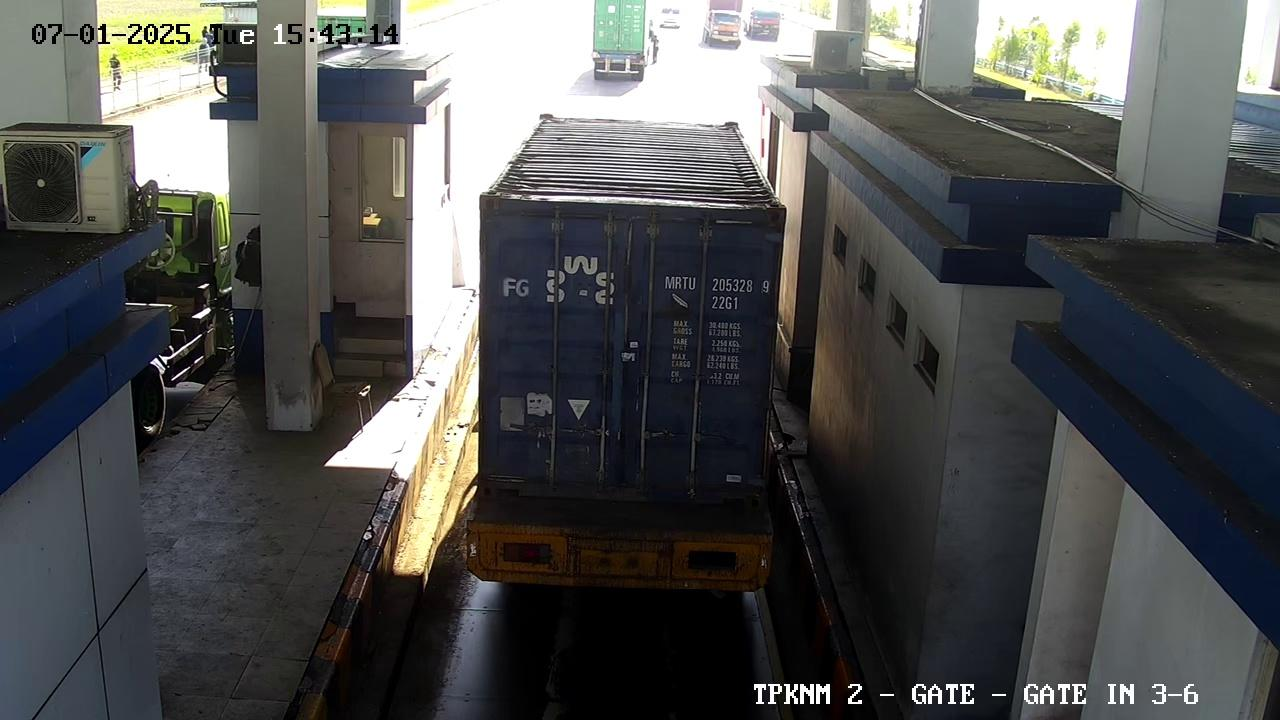Container_ID: (656, 271, 787, 320)
